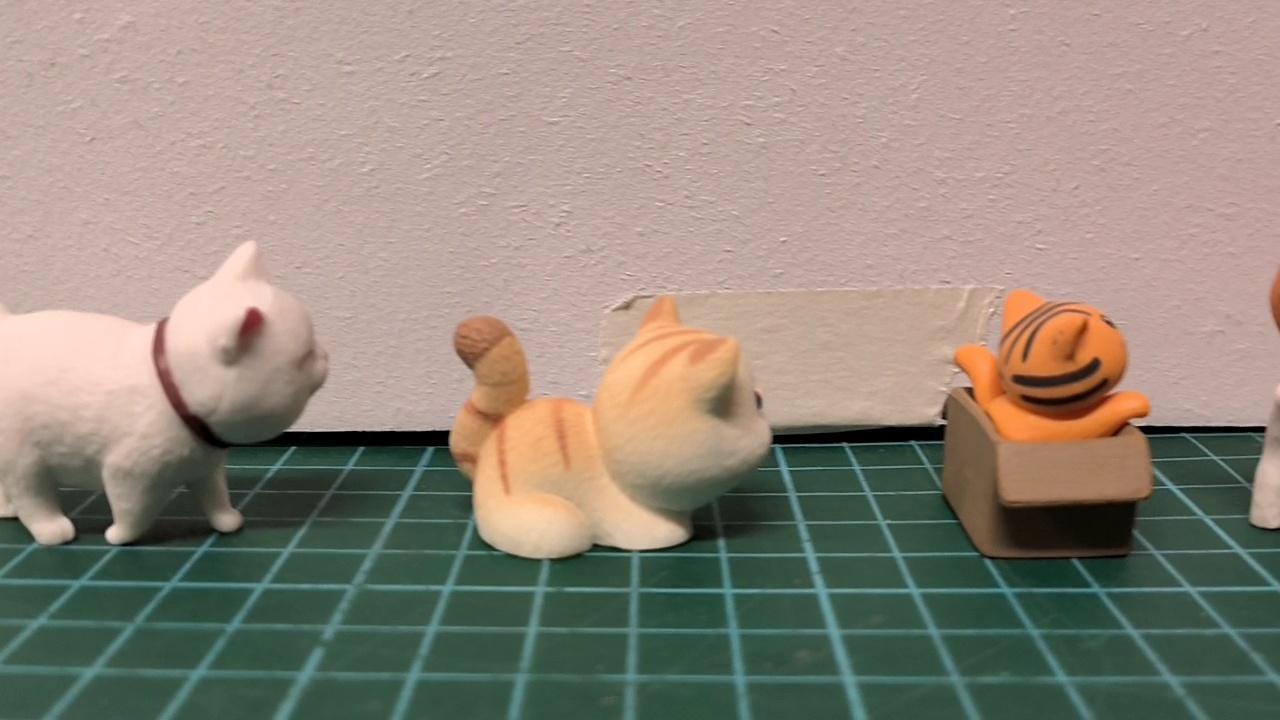pet: (0, 236, 333, 555), (439, 293, 778, 566), (950, 285, 1157, 446)
